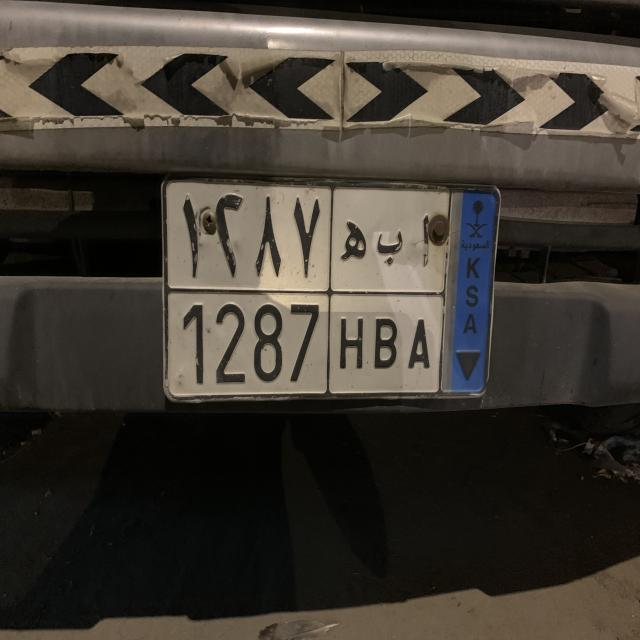license_plate: (158, 168, 508, 408)
